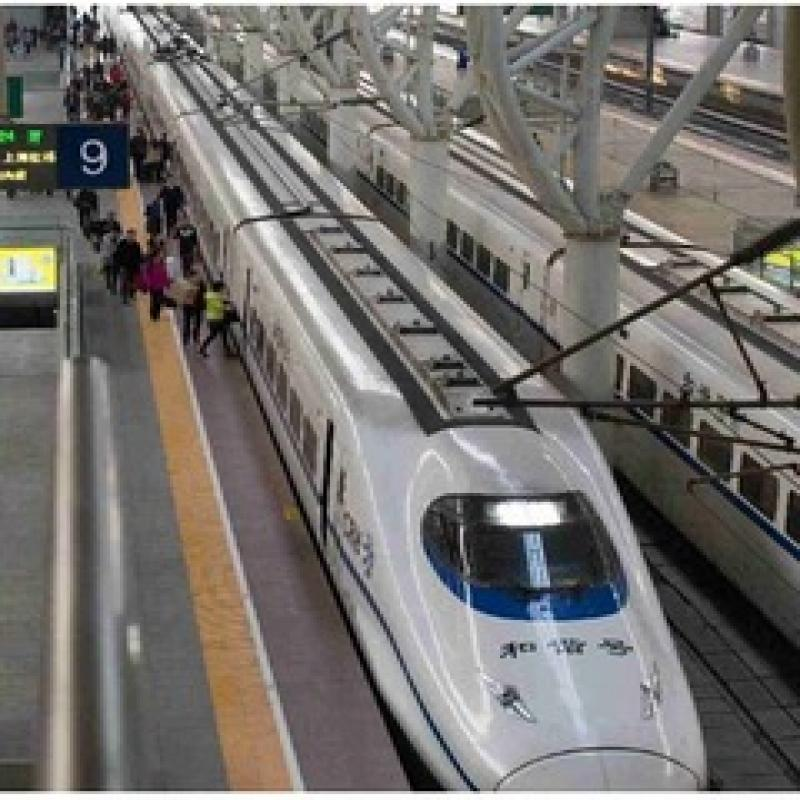train: (307, 387, 711, 800)
